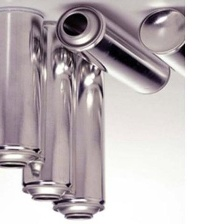aerosol_cans: (52, 2, 172, 101), (49, 40, 109, 221), (19, 17, 77, 204), (132, 5, 224, 97), (0, 2, 49, 173)
